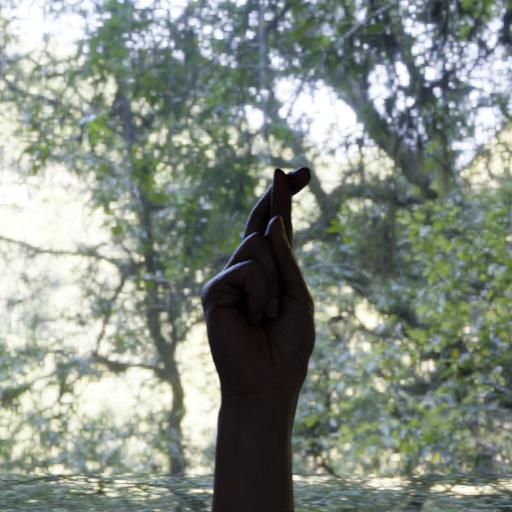R: (187, 158, 336, 428)
